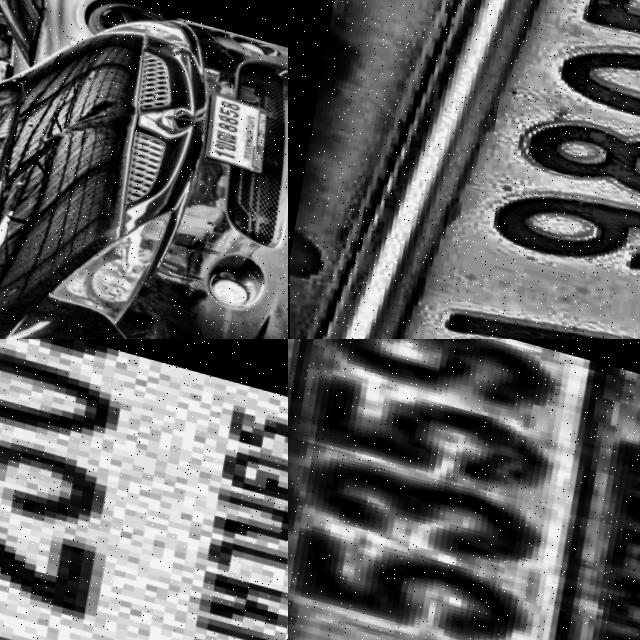license-plate: (288, 0, 640, 339), (288, 339, 640, 640), (0, 339, 288, 640), (196, 79, 276, 164)
